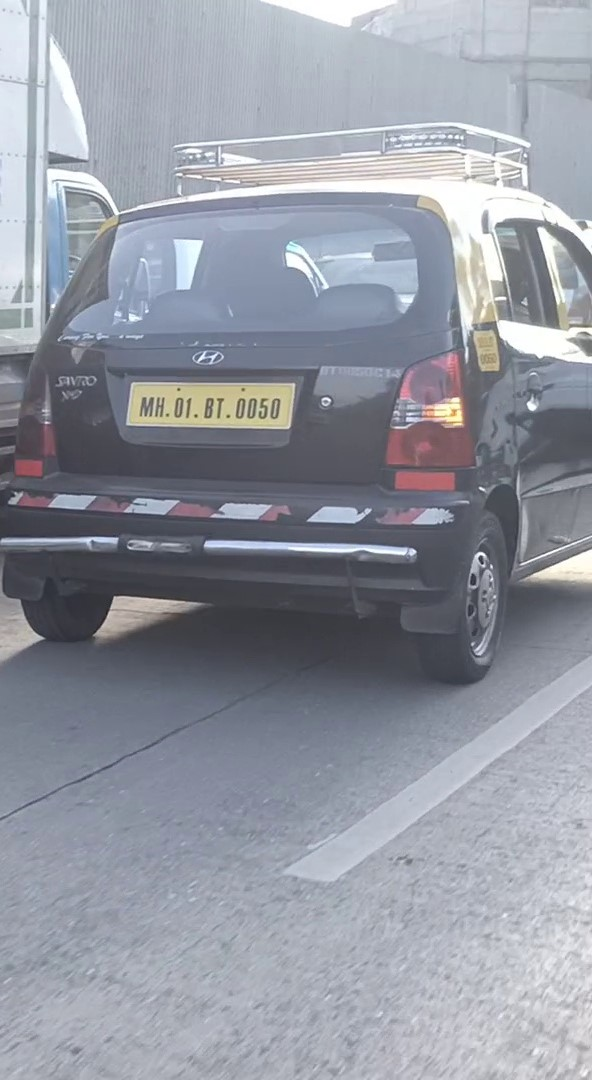MH01BT0050: (126, 379, 294, 433)
